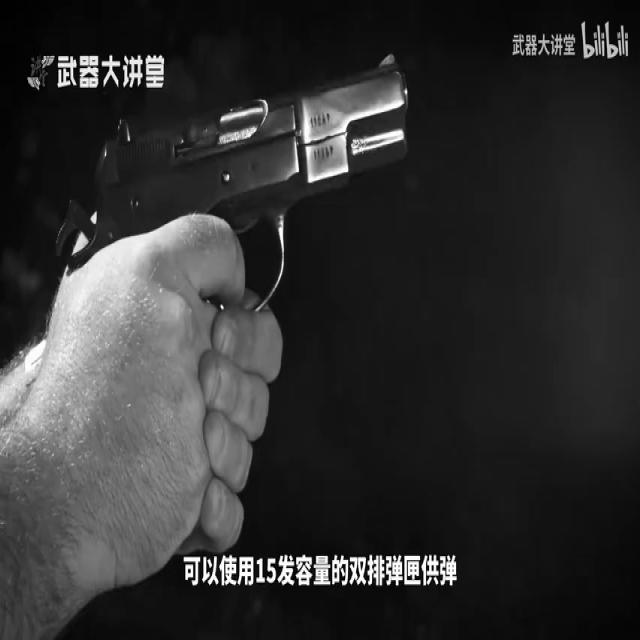Hand-Gun: (0, 0, 428, 507)
